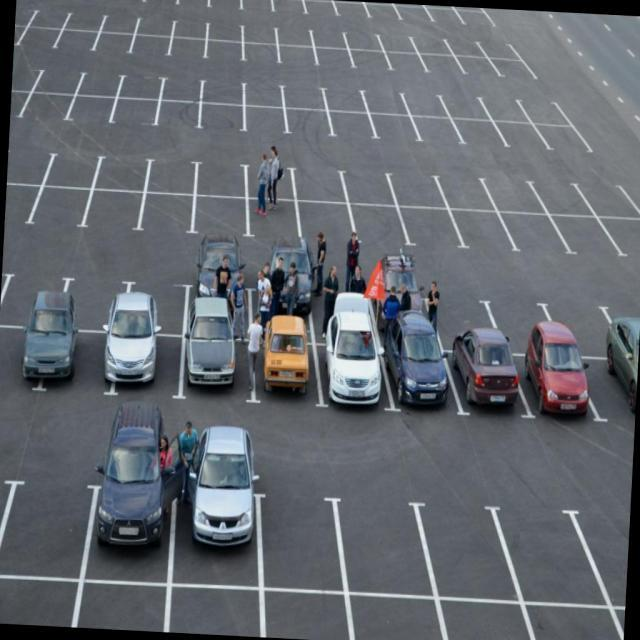space-empty: (246, 477, 356, 601), (412, 487, 518, 611), (489, 494, 607, 604), (336, 482, 431, 607), (1, 462, 85, 580), (543, 293, 619, 363), (582, 508, 630, 611), (254, 593, 355, 640), (0, 265, 66, 336), (60, 272, 128, 340), (169, 586, 259, 636), (359, 592, 451, 640), (486, 288, 557, 350), (443, 598, 545, 640), (535, 593, 626, 640), (73, 583, 161, 631), (428, 285, 498, 345), (309, 275, 368, 338), (123, 275, 182, 338), (184, 191, 253, 241), (502, 207, 567, 259), (552, 213, 615, 259), (88, 192, 145, 242), (0, 583, 66, 626), (397, 206, 462, 249), (34, 183, 89, 233), (346, 203, 407, 247), (576, 178, 640, 218), (247, 199, 302, 244), (138, 196, 193, 239), (45, 149, 100, 192), (530, 177, 595, 212), (454, 208, 506, 251), (96, 152, 147, 195), (479, 178, 545, 211), (612, 292, 640, 367), (304, 200, 354, 242), (387, 172, 447, 207), (432, 176, 495, 207), (147, 159, 197, 197), (245, 168, 297, 203), (288, 171, 344, 203), (283, 102, 329, 140), (194, 163, 248, 195), (539, 125, 593, 157), (7, 148, 52, 186), (109, 95, 162, 127), (20, 91, 76, 121), (454, 119, 505, 151), (342, 172, 396, 202), (514, 95, 569, 124), (4, 185, 35, 235), (324, 109, 375, 139), (412, 114, 463, 144), (497, 122, 548, 152), (600, 219, 640, 256), (478, 98, 533, 124), (199, 99, 245, 130), (69, 93, 116, 123), (371, 110, 417, 140), (442, 94, 490, 120), (362, 89, 410, 115), (245, 104, 288, 133), (119, 71, 164, 98), (155, 99, 201, 125), (24, 23, 65, 52), (324, 85, 368, 111), (243, 81, 287, 107), (35, 68, 83, 91), (76, 72, 123, 95), (202, 79, 243, 105), (171, 34, 207, 63), (314, 45, 354, 71), (402, 94, 451, 115), (97, 30, 138, 55), (283, 85, 327, 108), (419, 52, 463, 75), (443, 36, 489, 58), (163, 75, 203, 100), (132, 32, 172, 57), (274, 46, 318, 68), (409, 34, 452, 56), (474, 40, 519, 61), (492, 56, 533, 79), (204, 38, 244, 61), (12, 66, 47, 92), (307, 28, 350, 49), (58, 28, 99, 50), (65, 10, 106, 32), (135, 17, 175, 39), (241, 39, 281, 61), (25, 10, 71, 29), (345, 31, 385, 52), (102, 14, 140, 36), (208, 19, 243, 42), (351, 50, 391, 70), (455, 58, 498, 76), (239, 22, 280, 40), (378, 35, 419, 53), (173, 16, 208, 37), (276, 27, 316, 45), (387, 55, 425, 73), (269, 0, 307, 18), (302, 0, 340, 18), (10, 86, 28, 121), (369, 5, 402, 23), (457, 11, 494, 26), (336, 6, 374, 20), (238, 0, 275, 14), (428, 12, 463, 25), (207, 0, 247, 11), (400, 8, 431, 21), (175, 0, 209, 11), (14, 24, 28, 49), (16, 10, 39, 25), (142, 0, 182, 8), (420, 5, 454, 13), (357, 2, 395, 9), (443, 6, 481, 13), (78, 0, 117, 6), (112, 0, 150, 6), (391, 3, 421, 10)
space-occupied: (172, 462, 265, 595), (89, 456, 174, 580), (453, 348, 523, 427), (316, 341, 389, 416), (515, 348, 588, 421), (384, 347, 455, 422), (181, 269, 255, 337), (250, 256, 315, 330), (46, 325, 109, 399), (114, 333, 180, 401), (192, 332, 252, 406), (257, 340, 320, 410), (372, 269, 428, 336), (589, 353, 638, 421), (0, 325, 44, 398)
